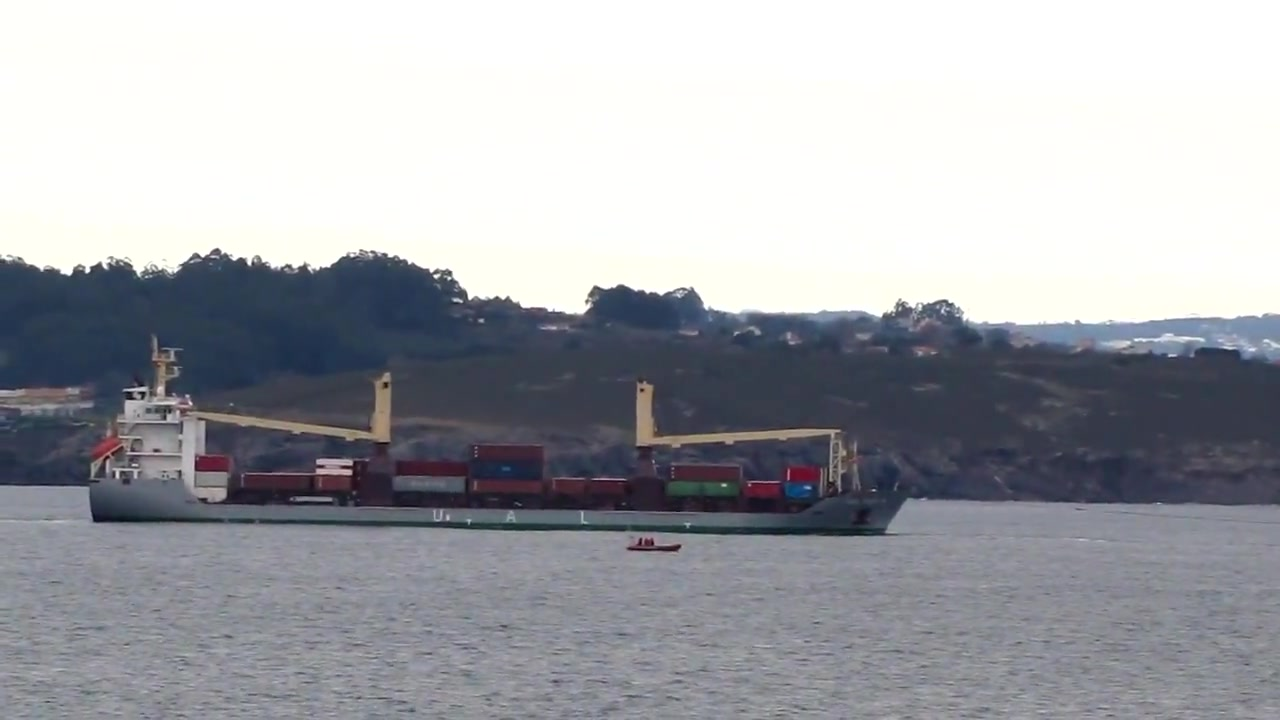boat: (86, 337, 925, 540)
